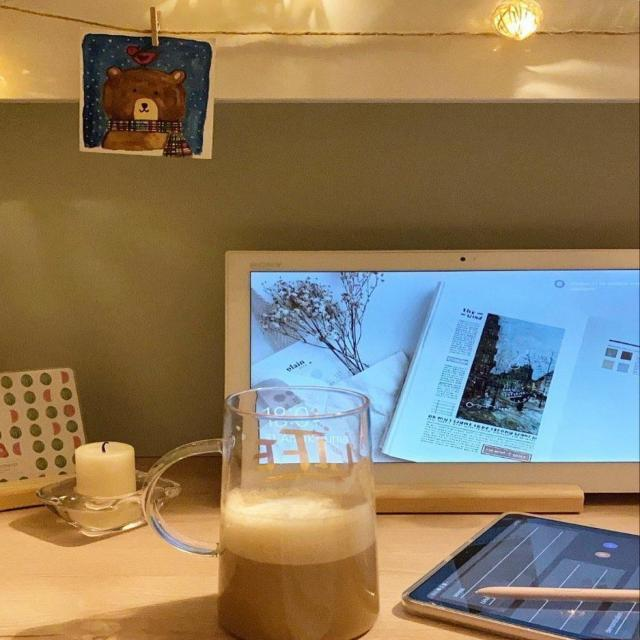glass-mug: (140, 380, 387, 640)
